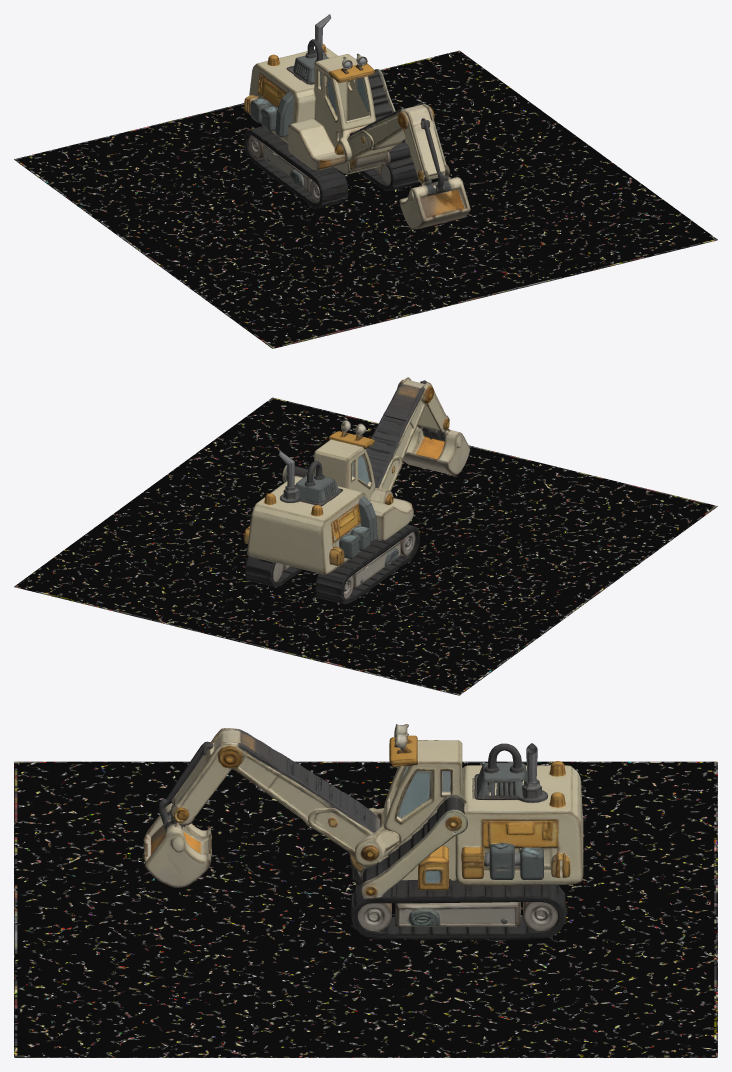
File: burovaya-02.glb
3 renders of one model, top to bottom at view 1: azimuth 30°, elevation 25°; view 2: azimuth 150°, elevation 25°; view 3: azimuth 270°, elevation 25°, orthographic. The views are drawn at different scales.
Visible parts, largest first — view 1: geometry_0; view 2: geometry_0; view 3: geometry_0.
Part boxes in pixels (left/top/right/bottom): geometry_0: left=14, top=14, right=717, bottom=348; geometry_0: left=14, top=377, right=717, bottom=695; geometry_0: left=14, top=724, right=717, bottom=1057.
Size of the model in its own units: 0.9842 by 0.2851 by 0.9899.
1 material, 1 textured.
